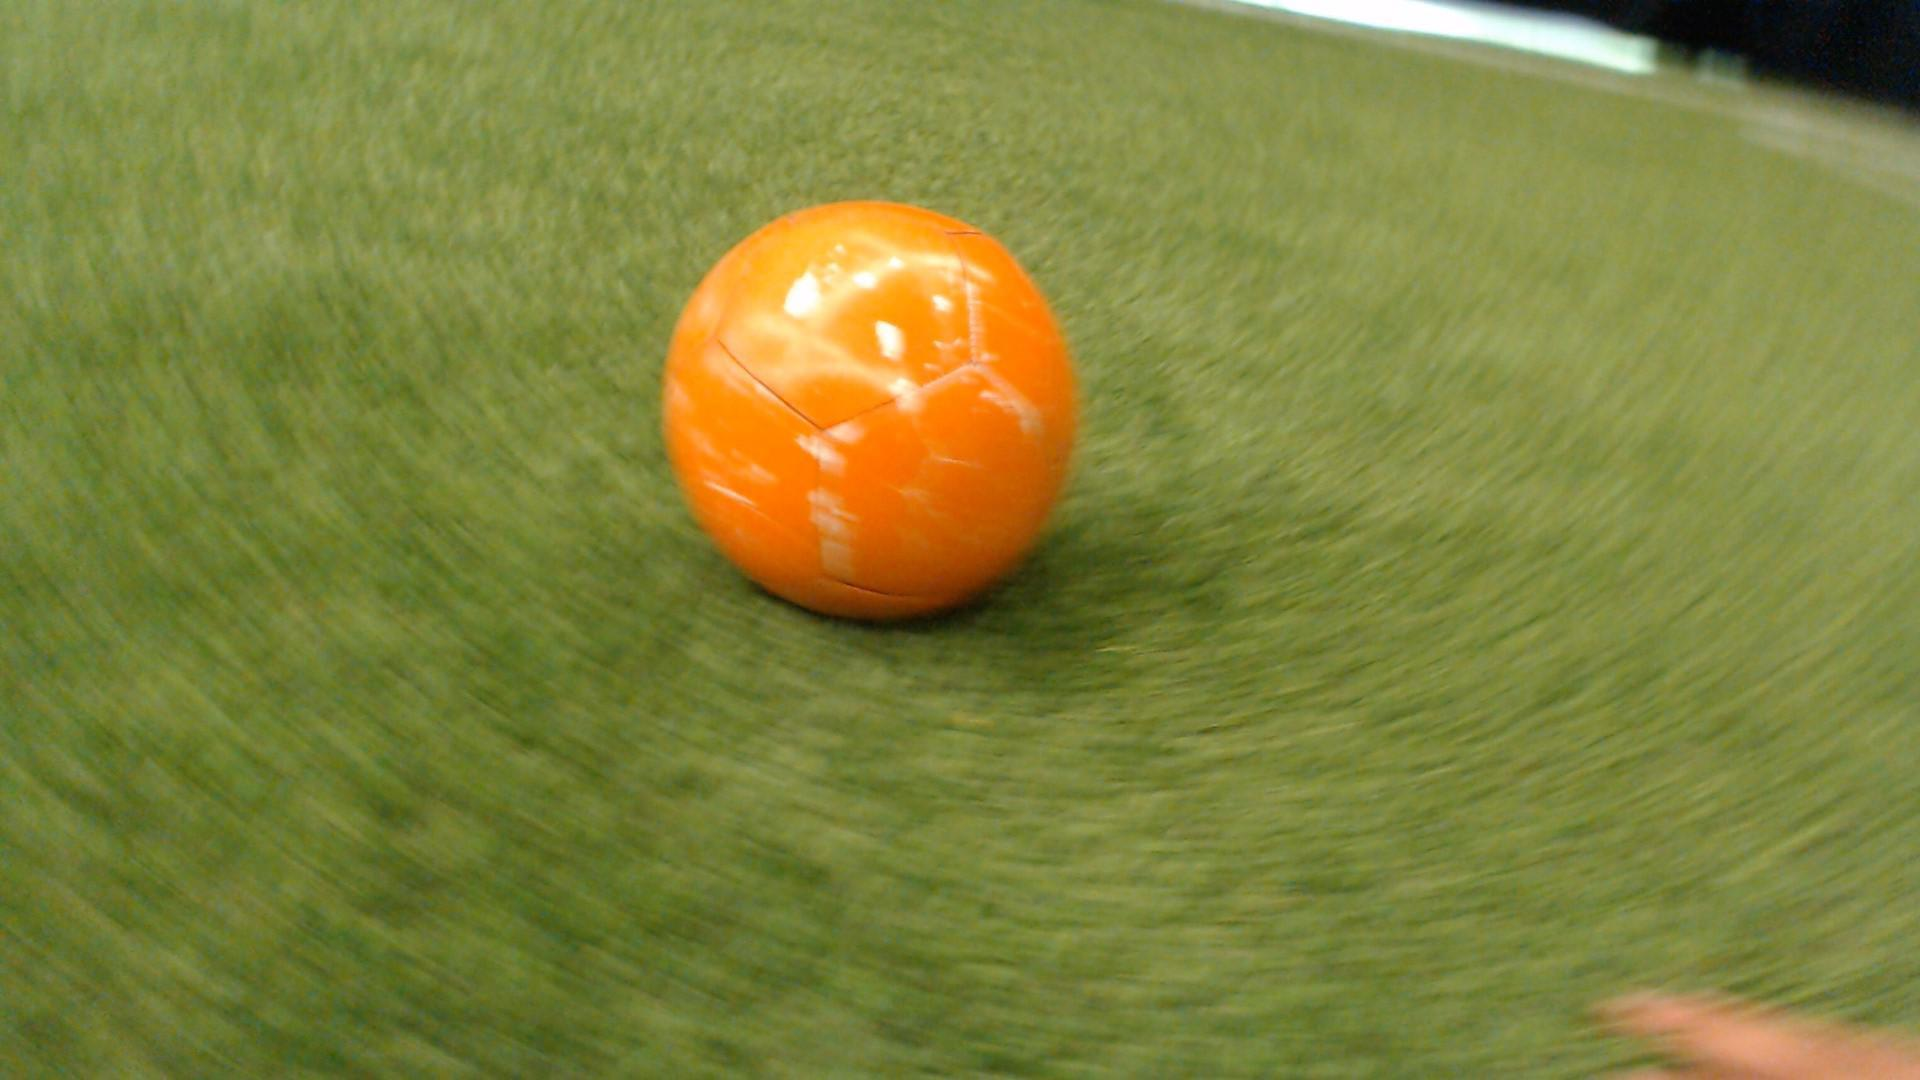bola: (661, 162, 1087, 644)
